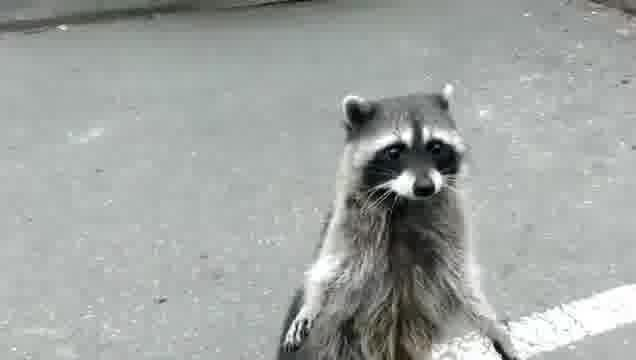raccoon: (278, 87, 522, 360)
